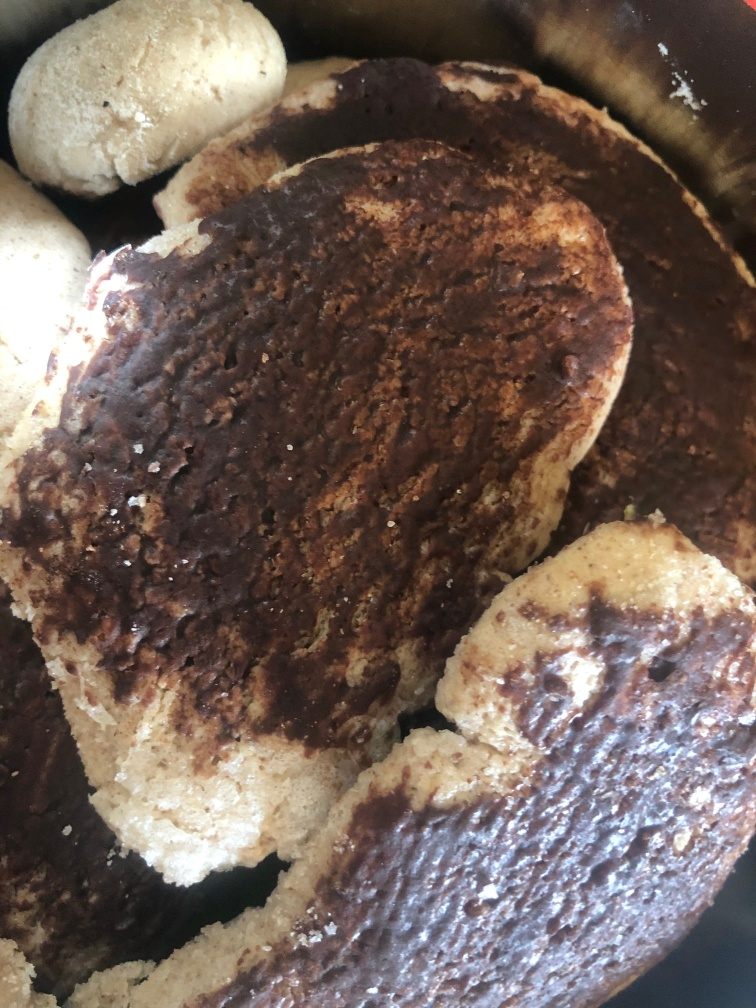weird #1: (5, 136, 630, 889), (76, 522, 756, 1008)
weird #2: (5, 5, 287, 188)
